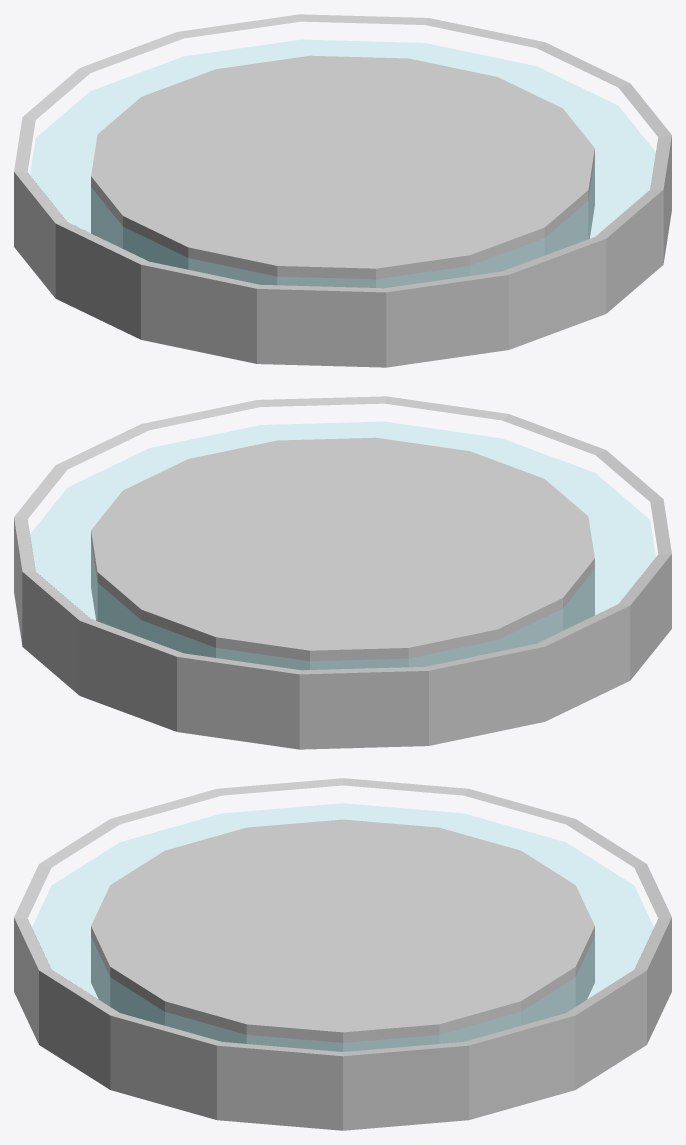
The model's file is fountain.glb.
The picture shows the model from 3 angles, top to bottom: view 1: azimuth 30°, elevation 25°; view 2: azimuth 150°, elevation 25°; view 3: azimuth 270°, elevation 25°; orthographic projection.
Visible parts, largest first — view 1: Cylinder.001, Cylinder, water; view 2: Cylinder.001, Cylinder, water; view 3: Cylinder.001, Cylinder, water.
Boxes of the visible parts, box(x1,y1,x2,y2) form: Cylinder.001: box(91, 55, 594, 288); Cylinder: box(14, 14, 671, 367); water: box(30, 40, 655, 287); Cylinder.001: box(91, 437, 594, 670); Cylinder: box(14, 396, 671, 749); water: box(30, 422, 655, 669); Cylinder.001: box(91, 819, 594, 1051); Cylinder: box(14, 778, 671, 1130); water: box(32, 803, 653, 1051).
Bounding box in the file's own units: 16.69 × 2.09 × 16.69.
